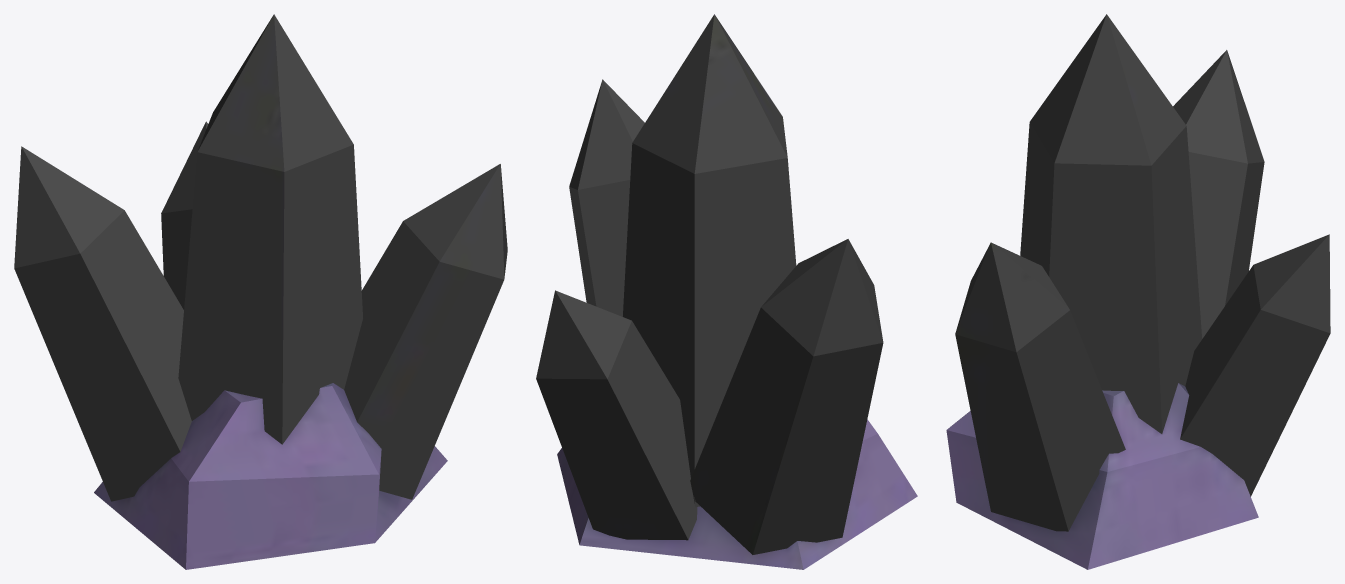
Rendered from cristal_bruto.glb.
3 renders of one model, left to right at view 1: azimuth 30°, elevation 25°; view 2: azimuth 150°, elevation 25°; view 3: azimuth 270°, elevation 25°, orthographic. The views are drawn at different scales.
Parts seen in each view (by area): view 1: cristal_bruto_corpo; view 2: cristal_bruto_corpo; view 3: cristal_bruto_corpo.
Boxes of the visible parts, <box> form: cristal_bruto_corpo: <box>14,14,507,569</box>; cristal_bruto_corpo: <box>536,14,917,569</box>; cristal_bruto_corpo: <box>946,14,1330,569</box>.
Bounding box in the file's own units: 0.21 × 0.24 × 0.1754.
1 material, 1 textured.
